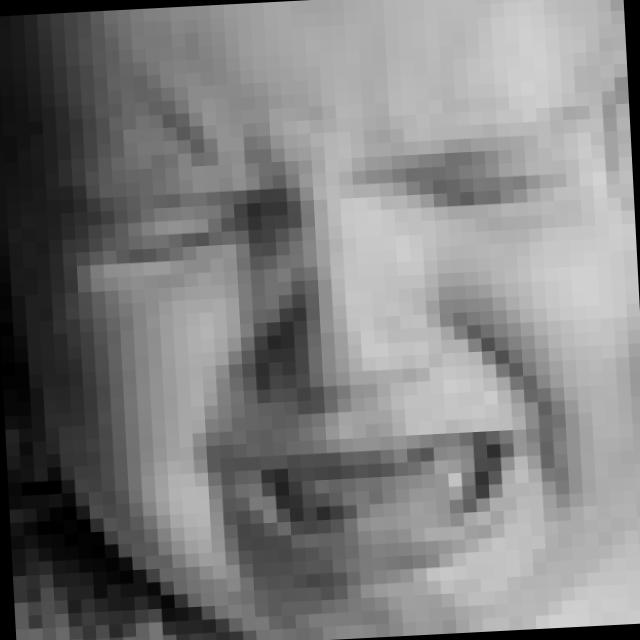sad: (55, 45, 640, 609)
